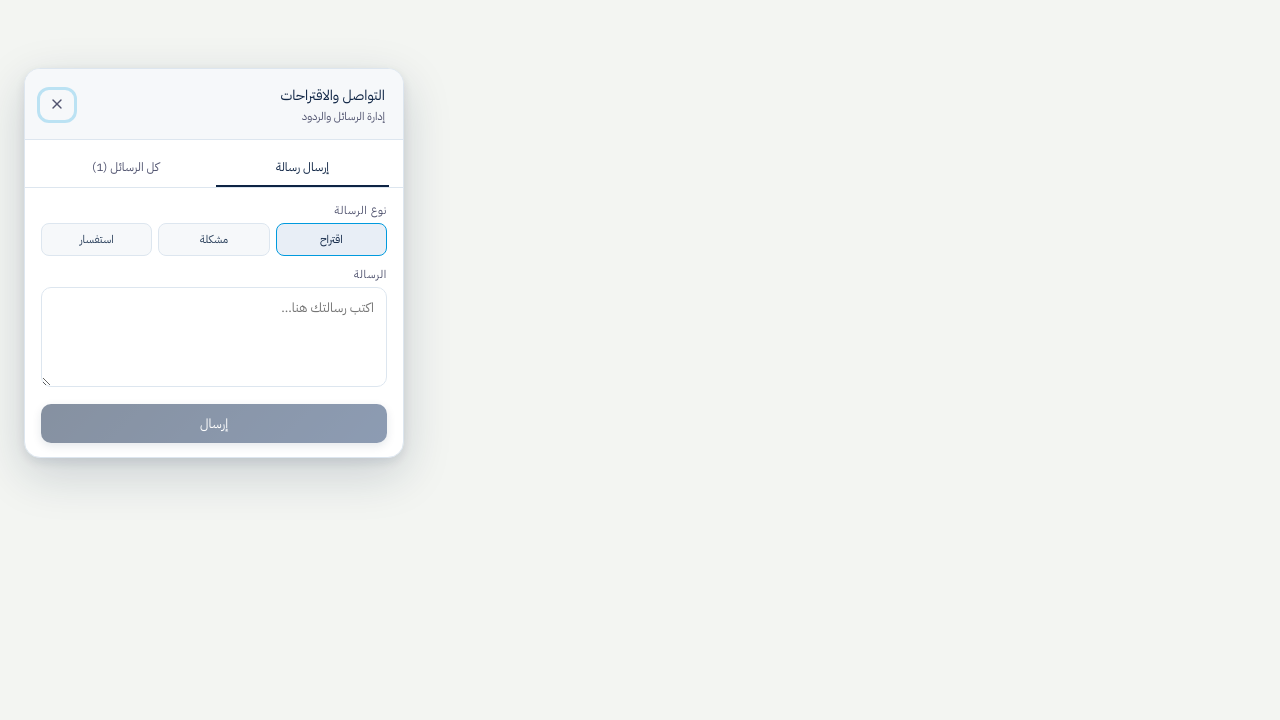
FeedbackWidget — optimistic submit and reply › a refresh that started before a local submit and resolve does not undo either
Note: While A is in flight: resolve the existing thread ...
Click the button "كل الرسائل (1)".
click(126, 168)  # box 39,150 -> 212,187
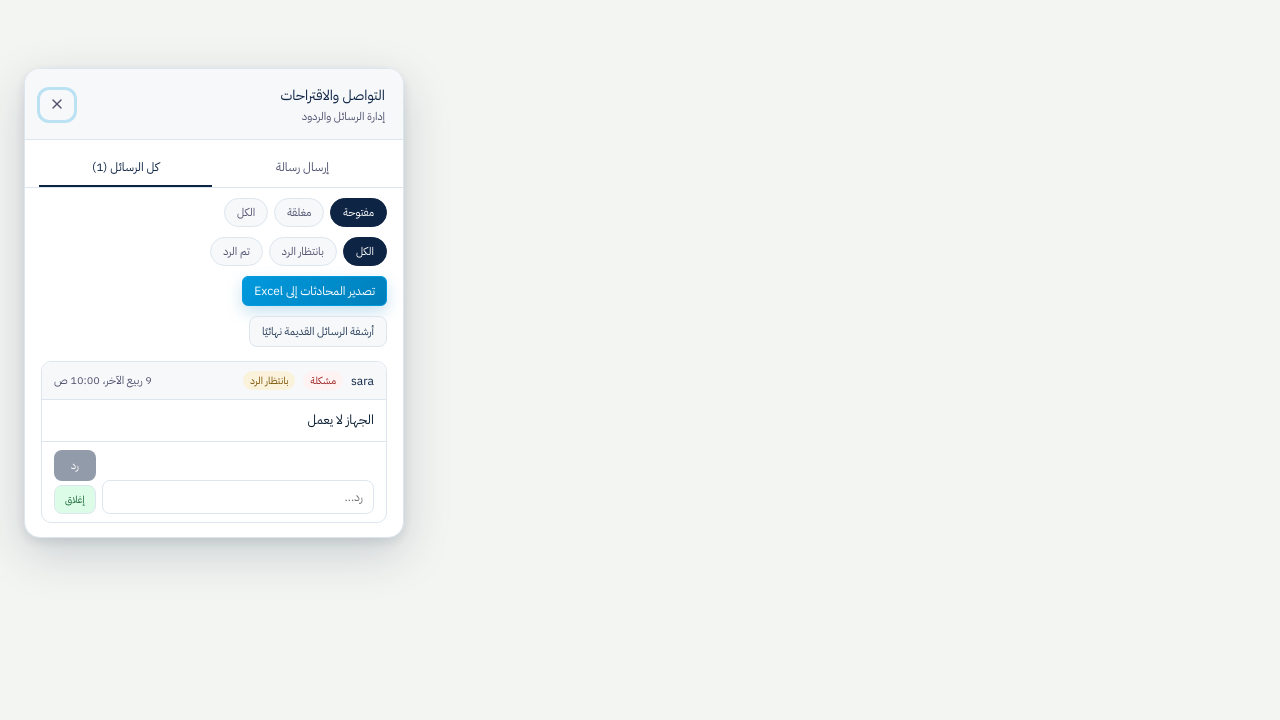
Result: the text "الجهاز لا يعمل" is shown at 308,410 -> 374,429
Note: (The panel's own close button shares the label, so go by class.)
Click the button with class "fb-resolve-btn".
click(75, 500)  # box 54,485 -> 96,514
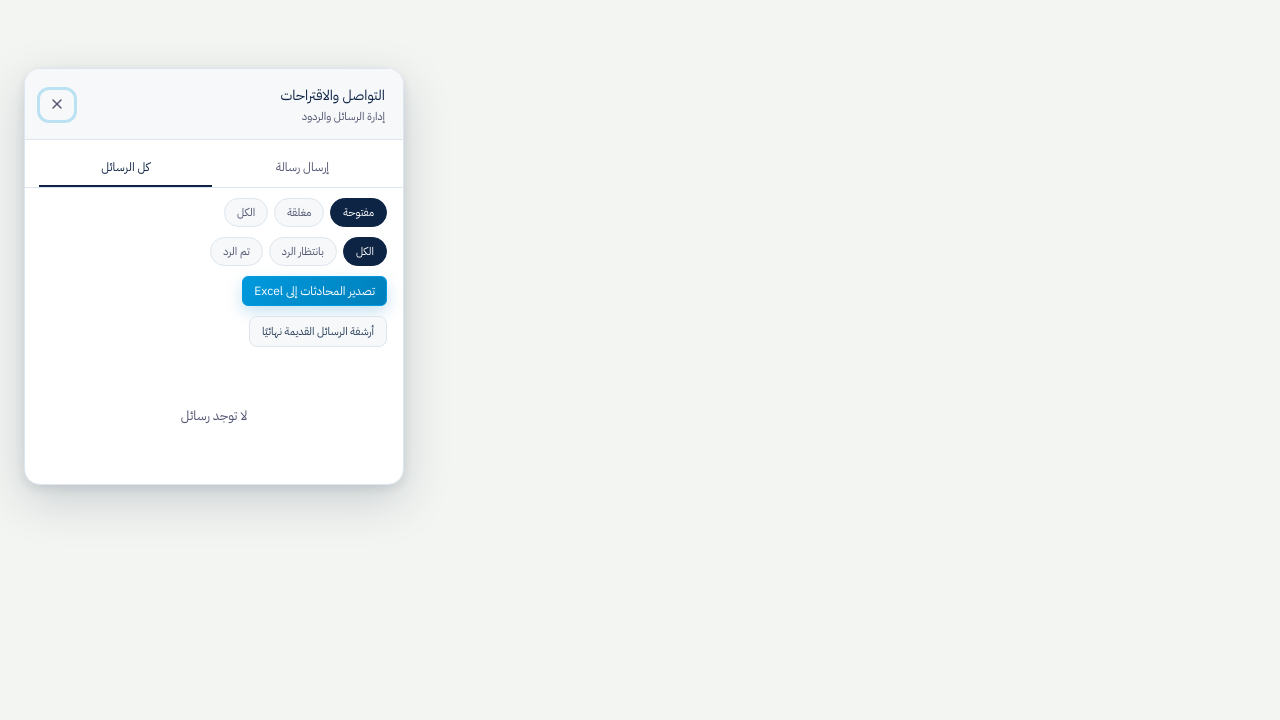
Result: the text "الجهاز لا يعمل" is gone
Note: ... and submit a new one.
Click the button "إرسال رسالة".
click(302, 168)  # box 216,150 -> 389,187
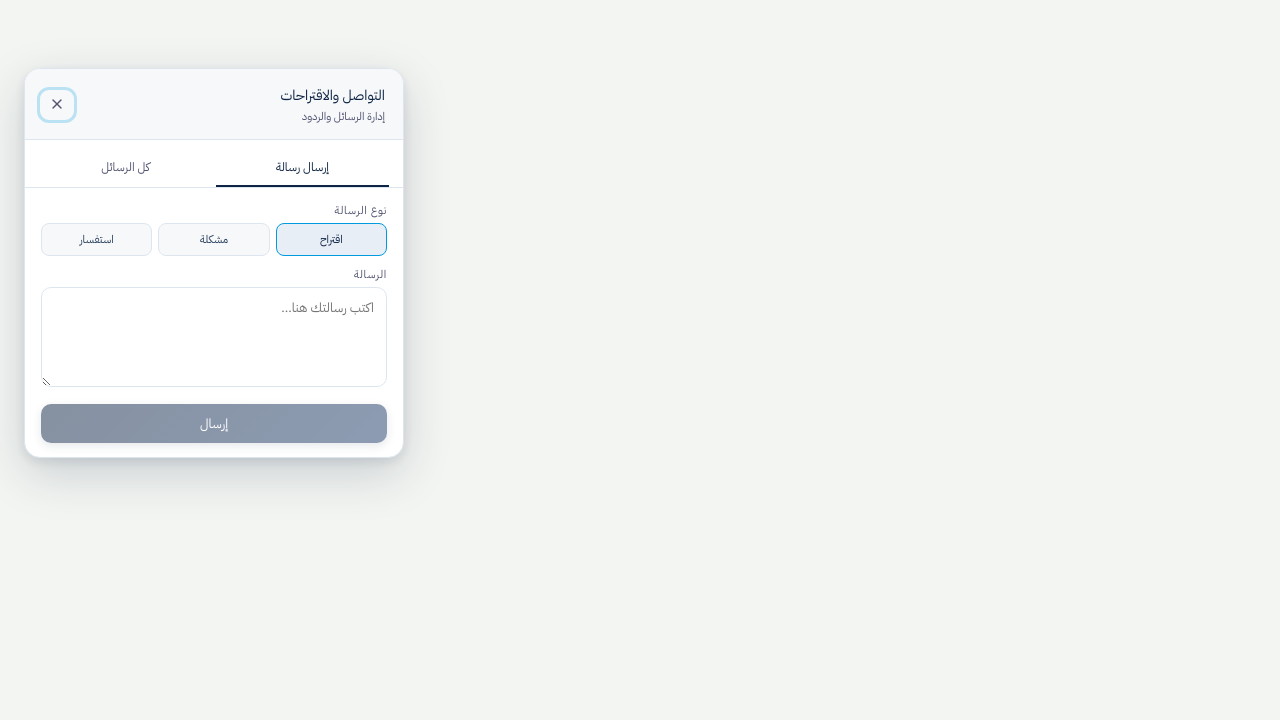
Type "اقتراح لا يجب أن يختفي" into the text box labelled "الرسالة".
click(214, 337); type("اقتراح لا يجب أن يختفي")  # box 41,287 -> 387,387
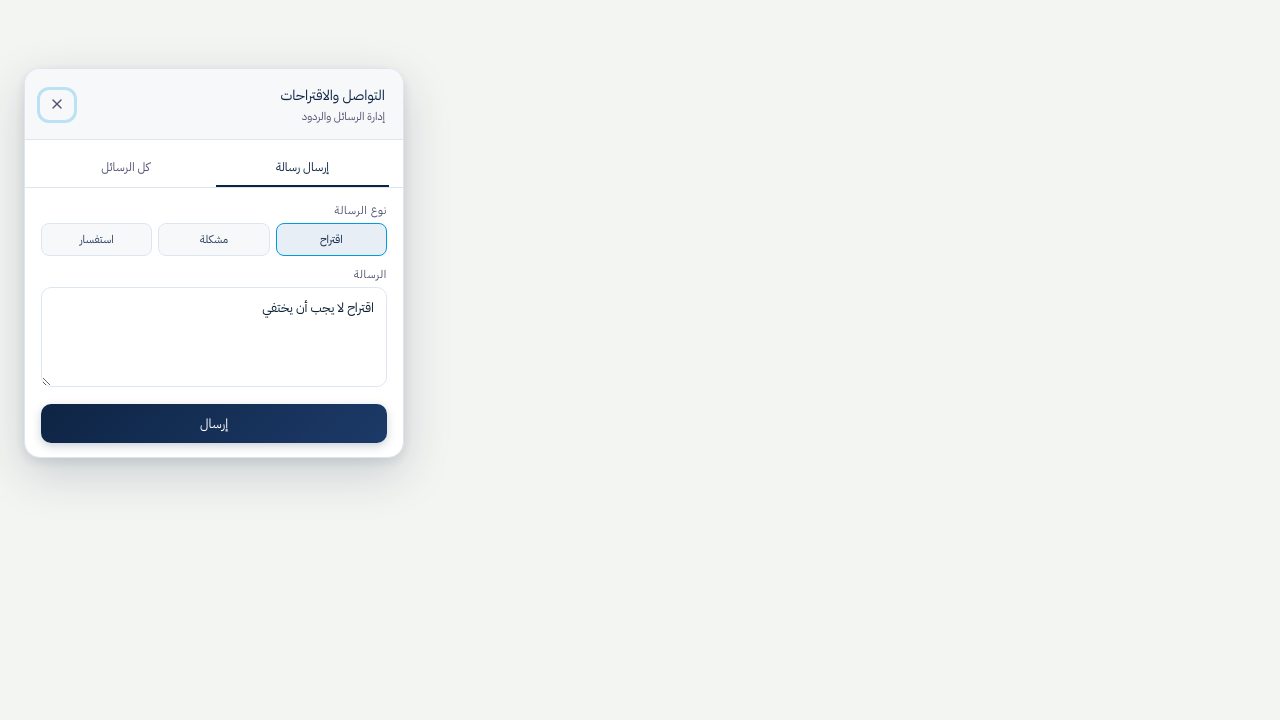
Click the button "إرسال".
click(214, 424)  # box 41,404 -> 387,443
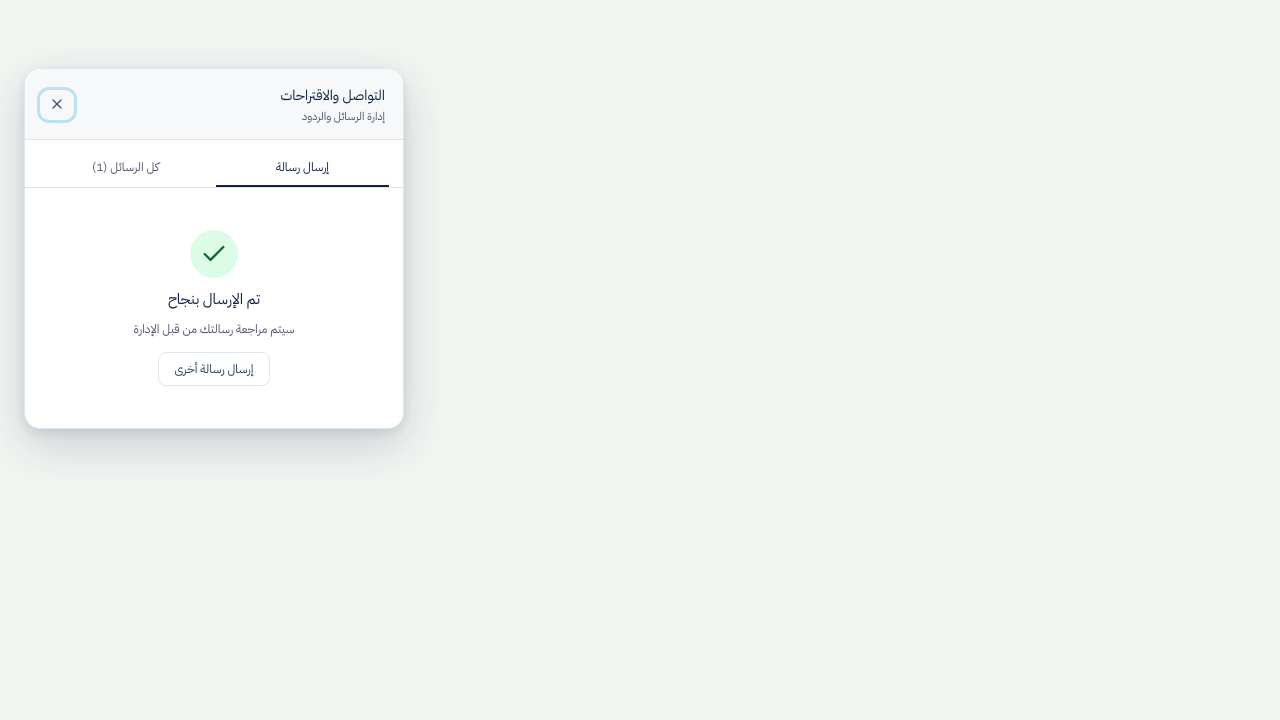
Result: the heading "تم الإرسال بنجاح" is shown at 168,288 -> 260,310
Click the button "كل الرسائل (1)".
click(126, 168)  # box 39,150 -> 212,187
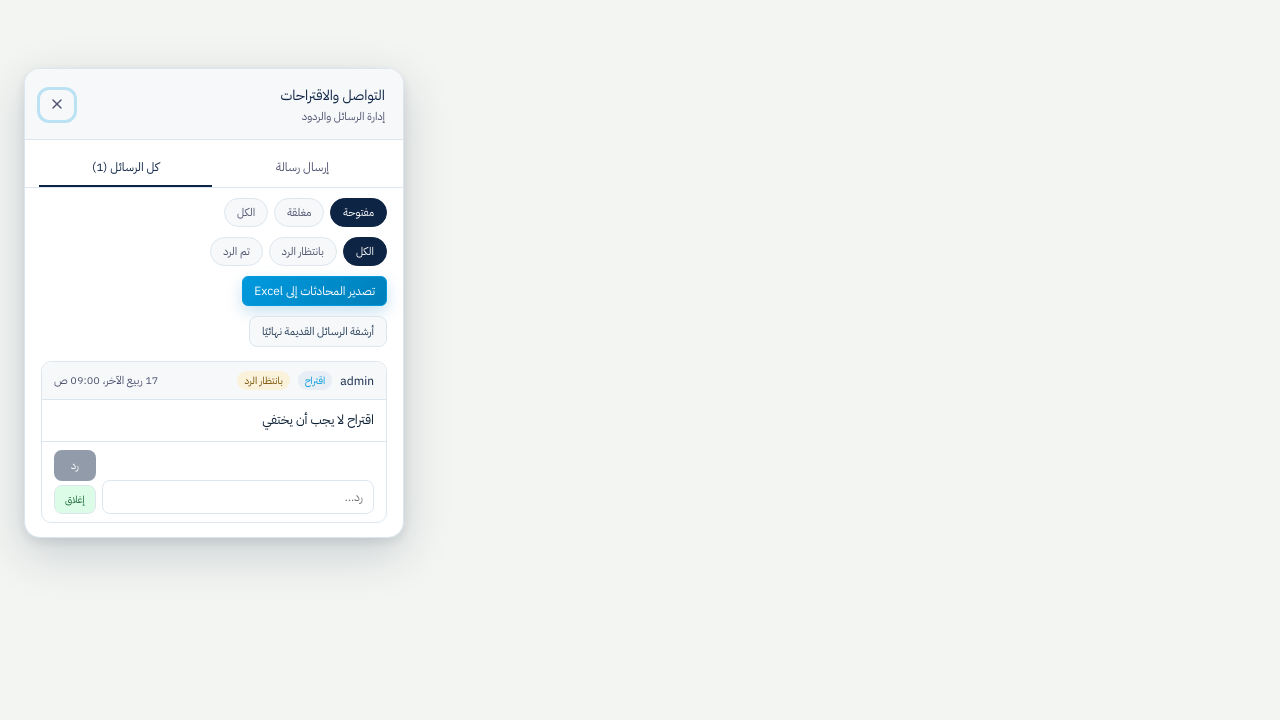
Expected: the text "الجهاز لا يعمل" is not shown
Result: the text "اقتراح لا يجب أن يختفي" is shown at 262,410 -> 374,429
